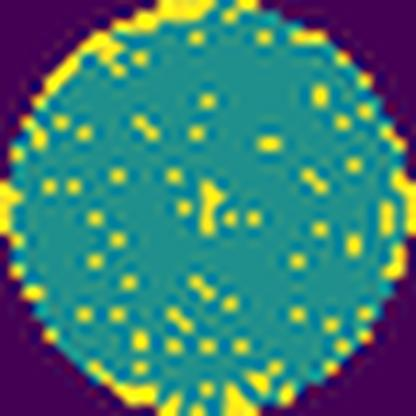Edge-Loc: (29, 0, 223, 116), (88, 357, 182, 416), (220, 377, 260, 416)
